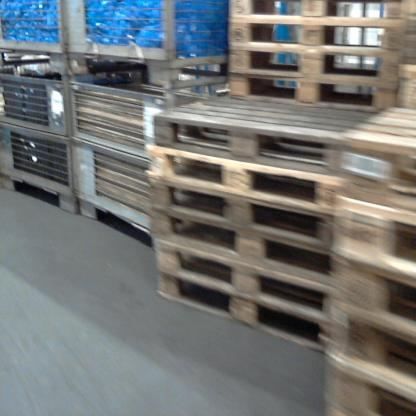pallet: (146, 91, 363, 174), (146, 205, 330, 286), (158, 271, 327, 355), (146, 174, 334, 247), (155, 237, 328, 313), (145, 148, 342, 212), (336, 101, 416, 211), (320, 304, 413, 391), (225, 13, 408, 55), (318, 253, 413, 330), (223, 66, 397, 107), (328, 196, 414, 275), (318, 355, 414, 416), (229, 50, 396, 76), (232, 1, 406, 15)
stillage: (65, 80, 223, 262), (65, 2, 232, 86), (4, 75, 76, 218), (4, 2, 75, 75)
